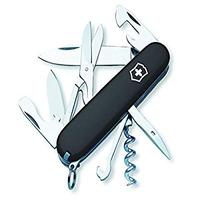knife: (19, 4, 176, 192)
